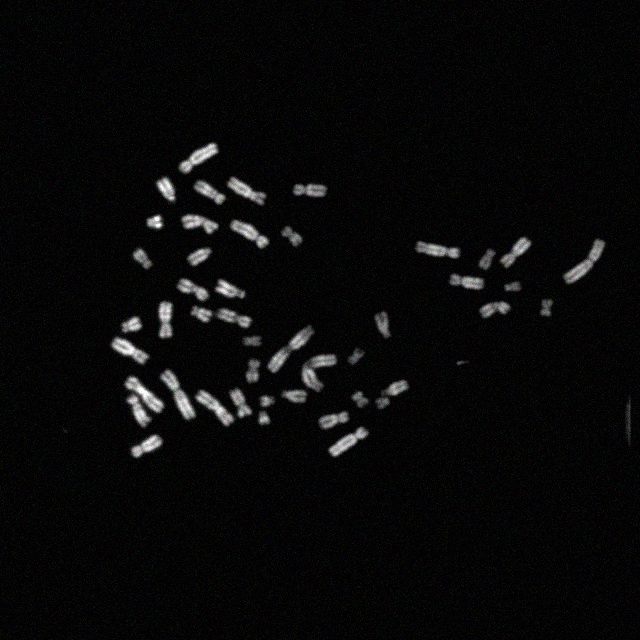chromosome: (268, 325, 314, 373), (564, 238, 604, 284), (162, 370, 194, 420), (302, 354, 338, 392), (195, 390, 233, 426), (125, 377, 163, 413), (180, 142, 218, 174), (329, 428, 369, 457), (227, 177, 265, 205), (230, 220, 268, 248), (112, 338, 148, 364), (502, 237, 530, 266), (194, 180, 226, 204), (128, 394, 150, 428), (132, 434, 162, 458), (416, 242, 459, 258), (177, 278, 207, 300), (182, 215, 218, 233), (218, 307, 250, 327), (214, 278, 244, 298), (158, 302, 174, 338), (320, 410, 348, 430), (231, 389, 251, 417), (449, 274, 483, 290), (480, 301, 510, 319), (380, 379, 408, 396), (156, 176, 174, 202), (294, 182, 326, 196), (282, 226, 302, 247), (132, 249, 152, 269), (376, 312, 390, 338), (478, 249, 496, 269), (188, 248, 210, 264), (190, 306, 212, 322), (282, 390, 306, 404), (122, 316, 140, 334), (349, 348, 365, 366), (352, 390, 368, 408), (247, 360, 260, 382), (540, 296, 552, 318), (243, 335, 261, 347), (146, 216, 162, 228), (506, 282, 522, 294), (376, 395, 388, 411), (260, 396, 276, 406), (260, 412, 270, 424)
